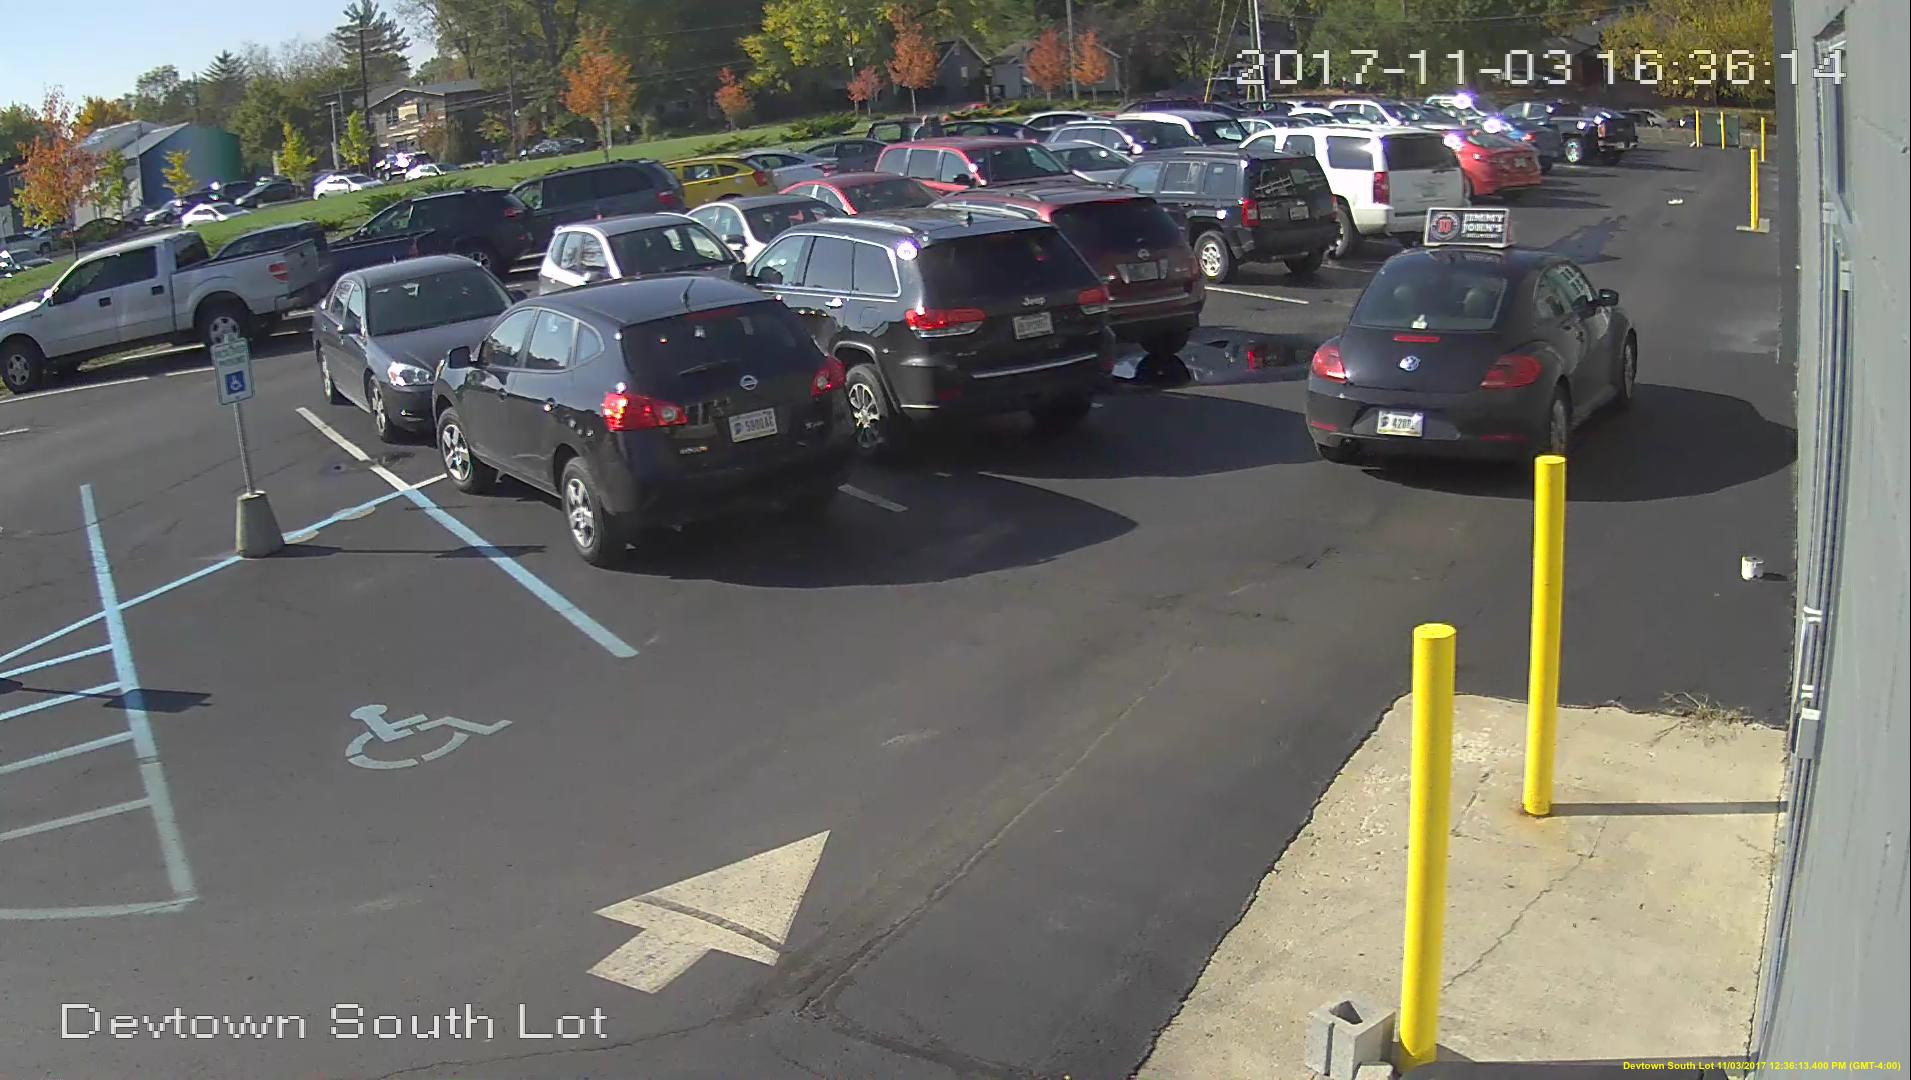jimmy_johns: (1417, 203, 1519, 249)
